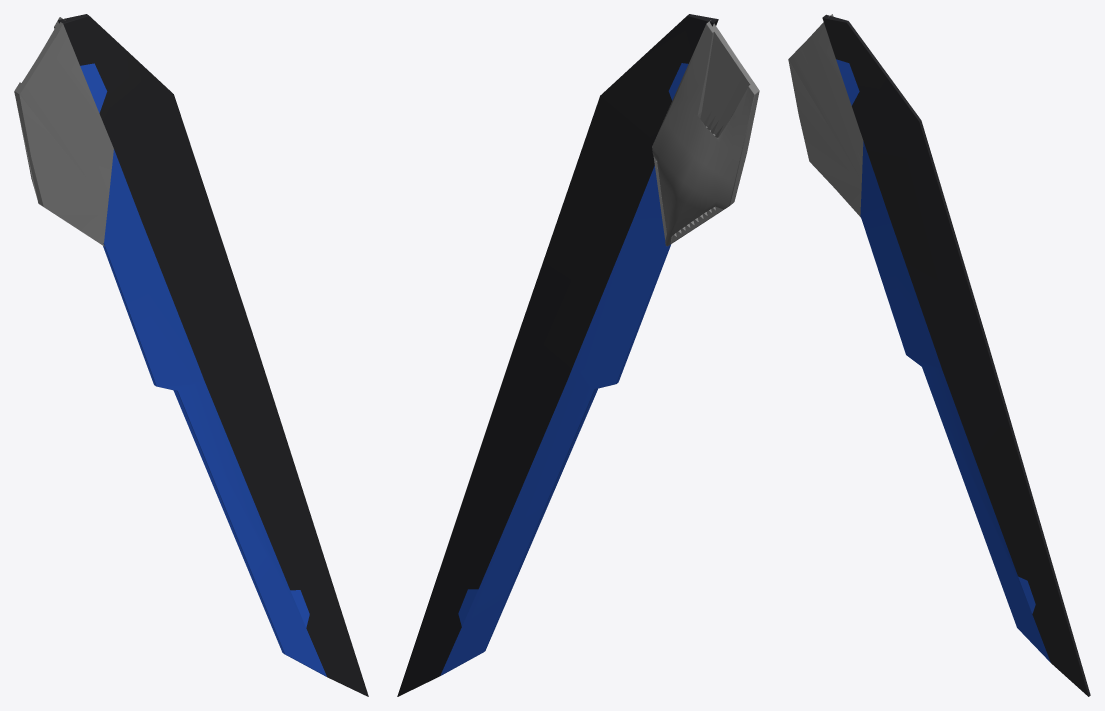
Rendered from rightOutsideBigWing.obj.
3 renders of one model, left to right at view 1: azimuth 30°, elevation 25°; view 2: azimuth 150°, elevation 25°; view 3: azimuth 330°, elevation 25°, orthographic. The views are drawn at different scales.
Visible parts, largest first — view 1: freedom:ChafCaja1273freedom group2, group2 freedom:ChafCaja1276; view 2: freedom:ChafCaja1273freedom group2, group2 freedom:ChafCaja1276; view 3: freedom:ChafCaja1273freedom group2, group2 freedom:ChafCaja1276.
Boxes of the visible parts, box(x1,y1,x2,y2) form: freedom:ChafCaja1273freedom group2: box(58, 14, 368, 696); group2 freedom:ChafCaja1276: box(14, 17, 113, 246); freedom:ChafCaja1273freedom group2: box(397, 14, 718, 696); group2 freedom:ChafCaja1276: box(652, 20, 759, 246); freedom:ChafCaja1273freedom group2: box(822, 14, 1090, 696); group2 freedom:ChafCaja1276: box(788, 14, 863, 217).
Bounding box in the file's own units: 59.96 × 121 × 4.5.
